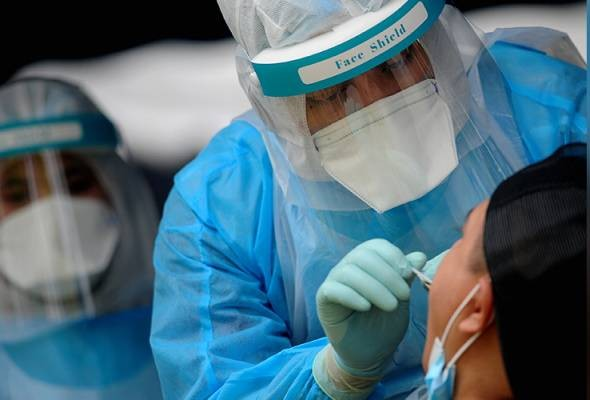Coverall: (147, 55, 590, 400)
Face_Shield: (246, 3, 439, 222)
Gloves: (319, 230, 430, 394)
with_mask: (327, 58, 459, 212), (1, 166, 115, 301)
